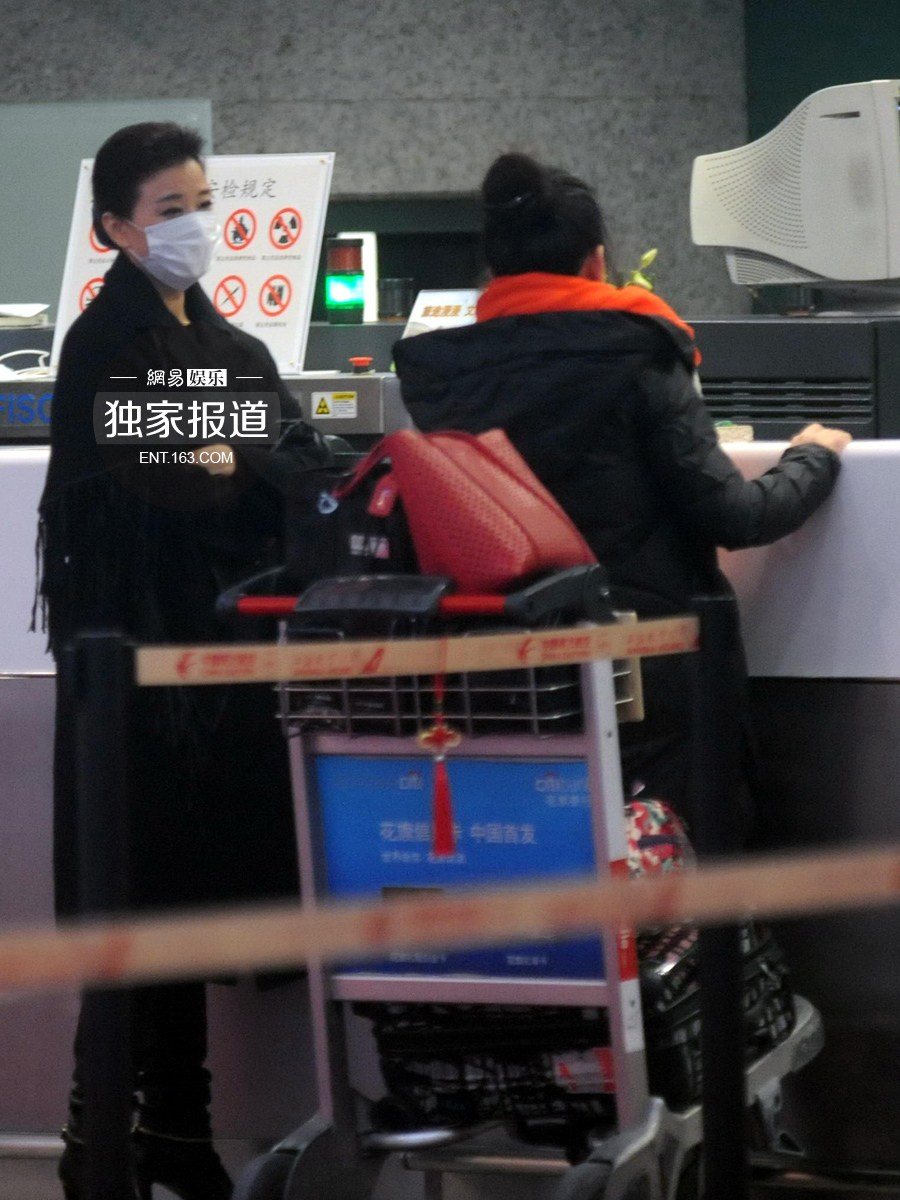face_mask: (129, 159, 213, 285)
